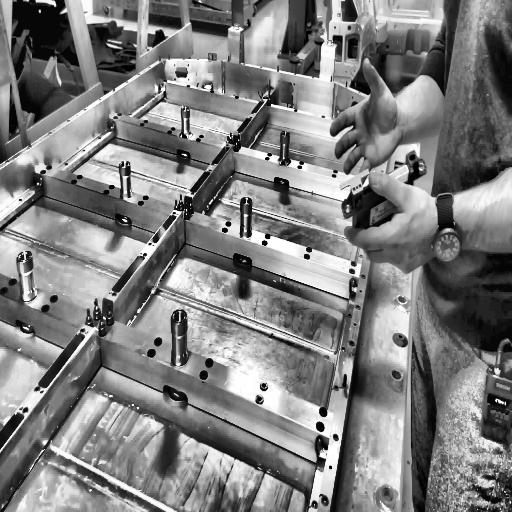b_casing: (0, 49, 428, 512)
